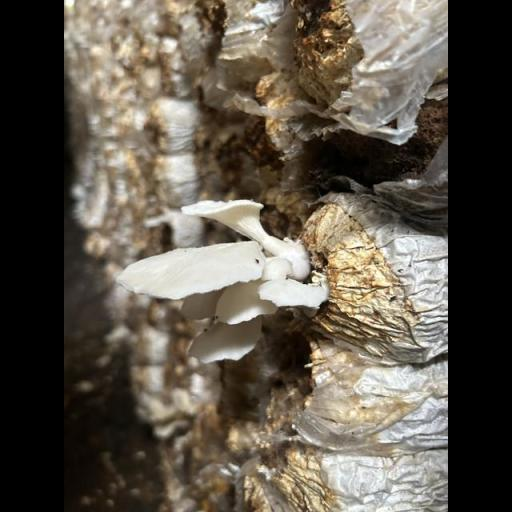White Oyster Mushroom: (104, 193, 338, 372)
